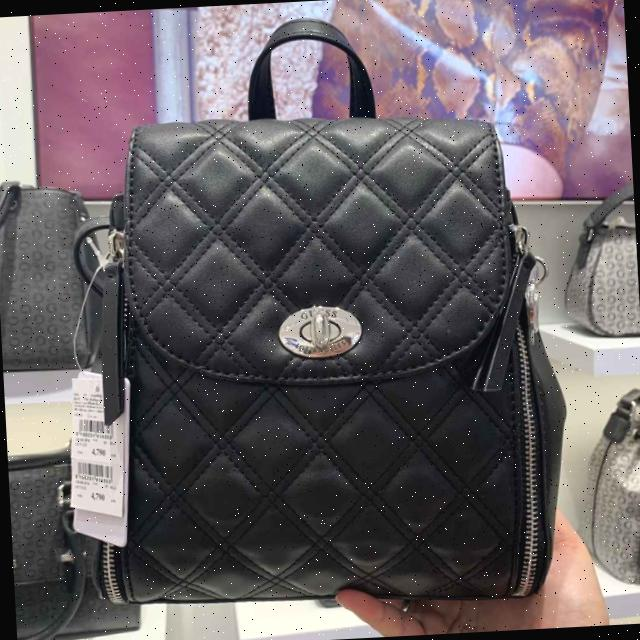Handbag: (55, 73, 566, 640)
